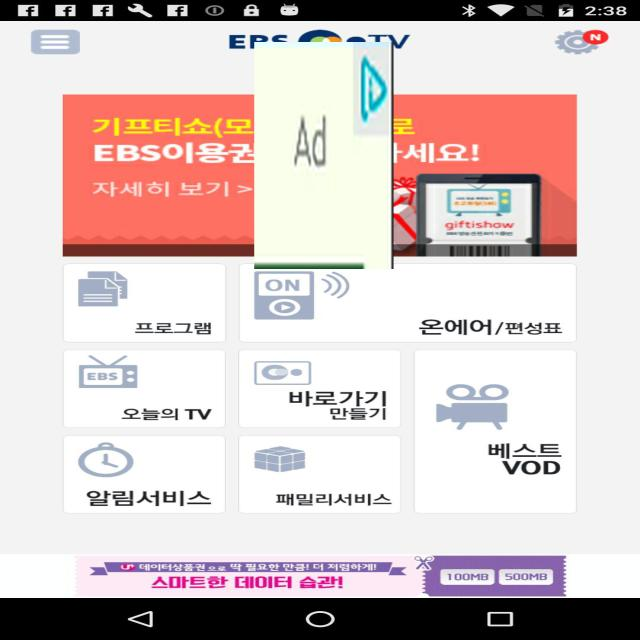sneaking: (254, 42, 394, 269)
